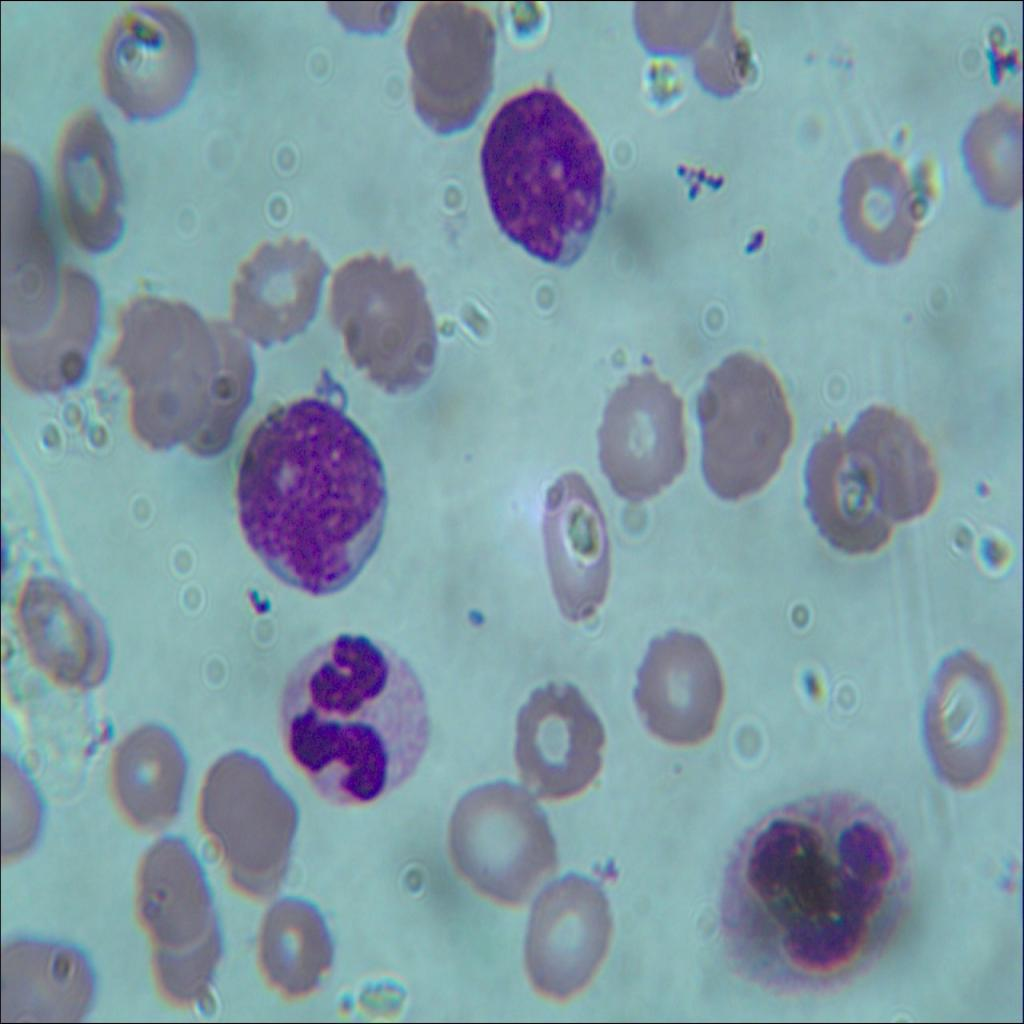Eritrosit: (439, 772, 559, 905), (694, 338, 786, 508), (919, 639, 1008, 796), (520, 858, 614, 1004), (596, 355, 689, 499), (538, 465, 620, 624), (50, 101, 132, 251), (629, 625, 730, 741), (842, 396, 938, 518), (96, 1, 193, 118), (15, 577, 114, 691), (229, 235, 324, 352), (13, 271, 101, 387), (515, 686, 603, 798), (835, 144, 915, 266), (186, 316, 256, 451), (809, 440, 890, 554), (131, 838, 214, 948), (119, 294, 211, 392), (111, 718, 189, 831), (251, 898, 346, 988), (151, 899, 228, 1006), (403, 2, 493, 91), (954, 99, 1023, 211), (124, 354, 202, 452), (330, 252, 413, 344), (2, 939, 90, 1023), (366, 286, 438, 388), (230, 791, 302, 892), (0, 227, 58, 339), (204, 745, 269, 834), (408, 48, 482, 125)
Limfoblast: (230, 392, 398, 605), (481, 85, 610, 272)
Neutrofil: (708, 782, 911, 988), (282, 635, 431, 805)
Platelet: (966, 467, 1008, 511), (463, 584, 493, 634), (736, 219, 766, 254), (638, 338, 654, 372)
